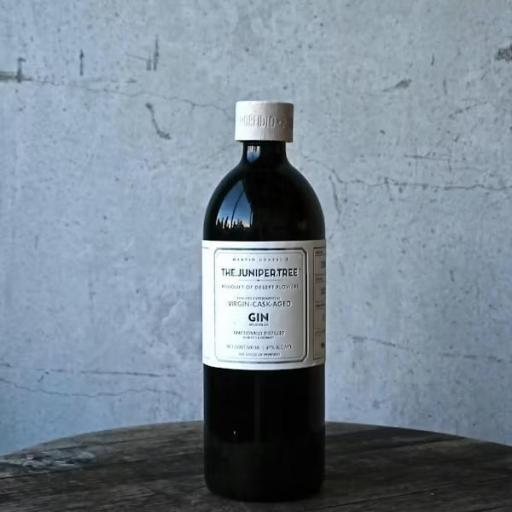bottle: (196, 90, 330, 512)
